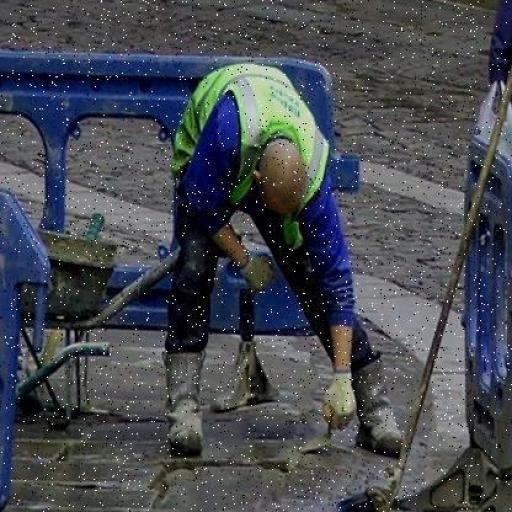person: (136, 61, 407, 485)
safety_shoe: (160, 341, 208, 454), (354, 365, 409, 453)
